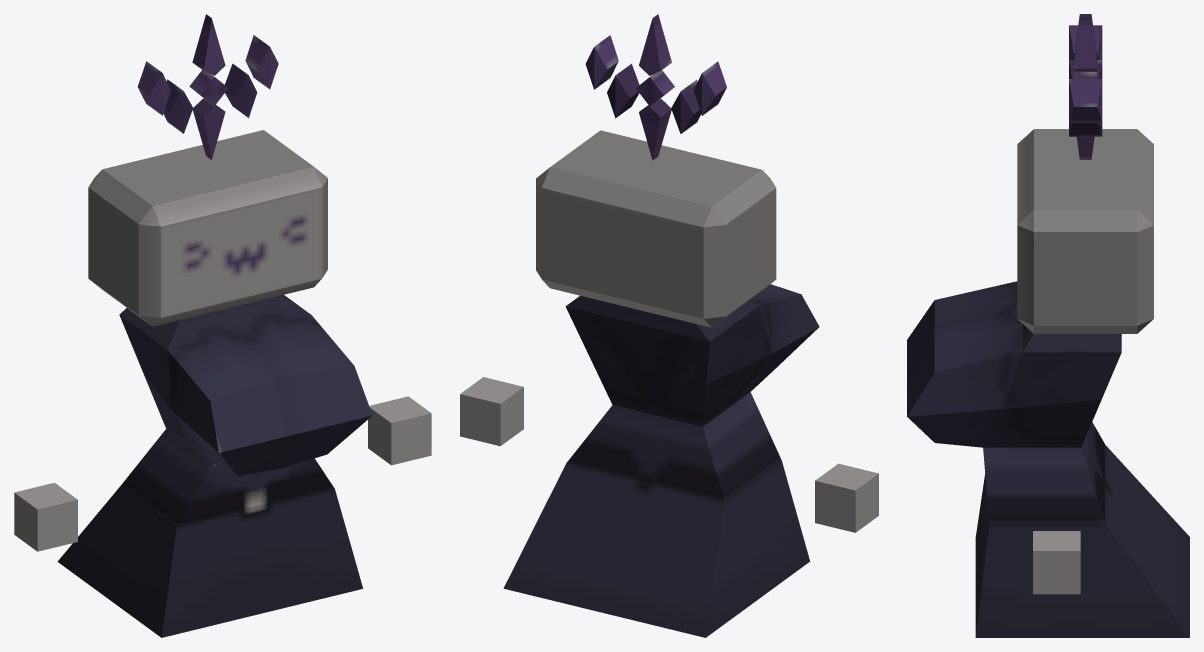
Rendered from pixelAngelModelTexturedForUnity3.fbx.
3 renders of one model, left to right at view 1: azimuth 30°, elevation 25°; view 2: azimuth 150°, elevation 25°; view 3: azimuth 270°, elevation 25°, orthographic. The views are drawn at different scales.
Visible parts, largest first — view 1: body, head, nimb, leftHand, rightHand; view 2: body, head, nimb, rightHand, leftHand; view 3: body, head, nimb, rightHand.
Part boxes in pixels (x1,y1,x2,y2): body: (57, 295, 372, 637); head: (88, 130, 327, 326); nimb: (137, 14, 278, 159); leftHand: (14, 482, 77, 551); rightHand: (368, 396, 431, 465); body: (503, 284, 819, 637); head: (536, 130, 776, 327); nimb: (585, 14, 726, 160); rightHand: (460, 377, 523, 446); leftHand: (815, 463, 878, 532); body: (907, 281, 1189, 637); head: (1017, 129, 1153, 333); nimb: (1069, 14, 1102, 159); rightHand: (1033, 531, 1080, 594).
Bounding box in the file's own units: 3.02 × 1.83 × 4.08.
